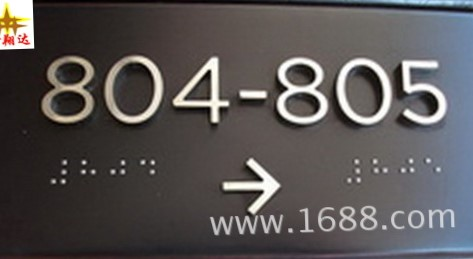Braille: (138, 158, 157, 187), (370, 158, 390, 185), (108, 158, 127, 186), (49, 158, 68, 185), (424, 156, 442, 184), (399, 156, 416, 185), (79, 158, 97, 185), (345, 157, 363, 184)
